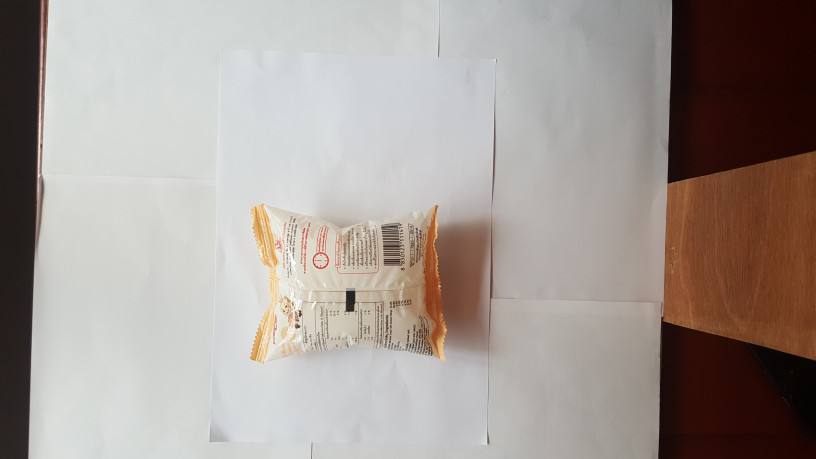farmhouse-sweetsandwich-almond: (244, 198, 451, 366)
